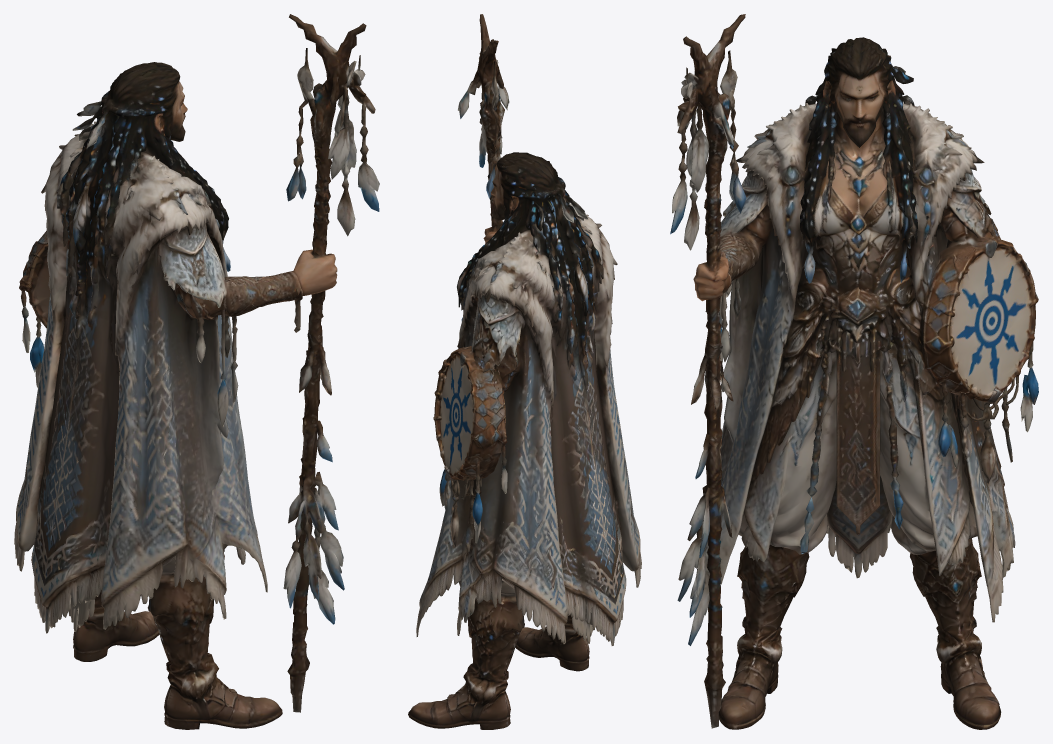
The model's file is drumcalleralt_T3-tripo.glb.
3 views of the same model, side by side, from view 1: azimuth 30°, elevation 25°; view 2: azimuth 150°, elevation 25°; view 3: azimuth 270°, elevation 25° (orthographic). The views are drawn at different scales.
Parts seen in each view (by area): view 1: tripo_node_5e9a68ef-9a51-452b-852a-d78c50d78d8e; view 2: tripo_node_5e9a68ef-9a51-452b-852a-d78c50d78d8e; view 3: tripo_node_5e9a68ef-9a51-452b-852a-d78c50d78d8e.
Boxes of the visible parts, x1,y1,x2,y2 form: tripo_node_5e9a68ef-9a51-452b-852a-d78c50d78d8e: (14, 14, 379, 729); tripo_node_5e9a68ef-9a51-452b-852a-d78c50d78d8e: (408, 14, 641, 729); tripo_node_5e9a68ef-9a51-452b-852a-d78c50d78d8e: (670, 14, 1038, 729).
Bounding box in the file's own units: 0.375 × 1 × 0.4602.
1 material, 1 textured.
